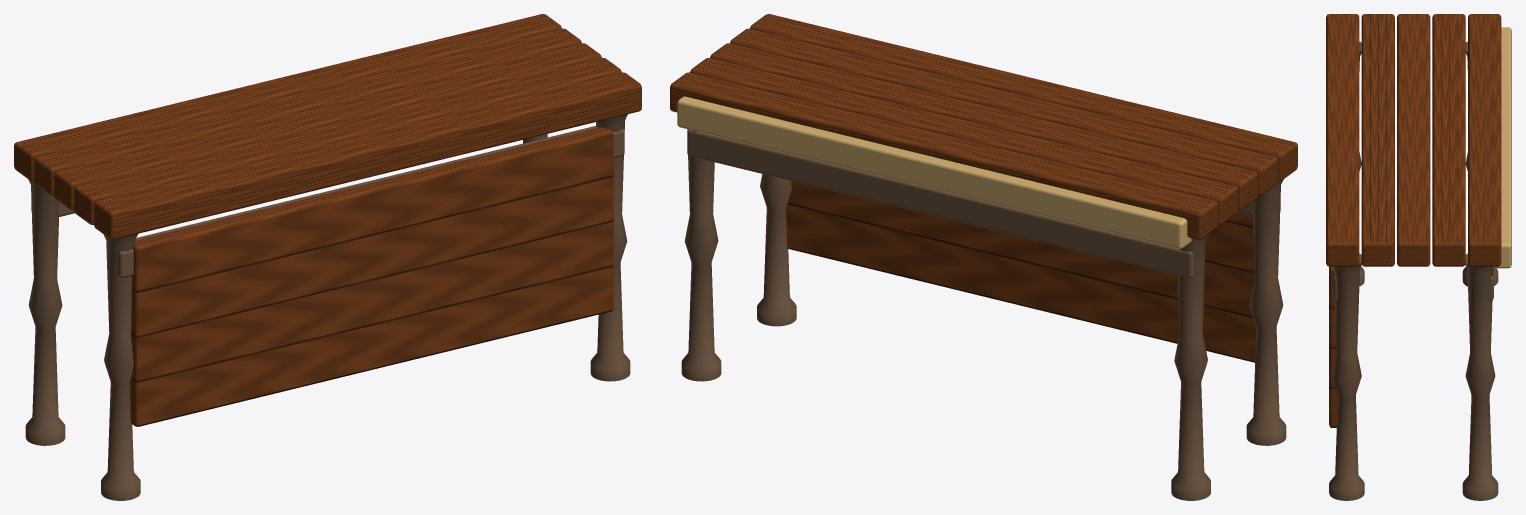
The model's file is adventurers-tavern-and-guild-hall-guild-counter-9cf4fe04__24738.glb.
3 renders of one model, left to right at view 1: azimuth 30°, elevation 25°; view 2: azimuth 150°, elevation 25°; view 3: azimuth 270°, elevation 25°, orthographic. The views are drawn at different scales.
Visible parts, largest first — view 1: guild-counter; view 2: guild-counter; view 3: guild-counter.
Part boxes in pixels (<box>): guild-counter: <box>14,14,641,500</box>; guild-counter: <box>670,14,1297,500</box>; guild-counter: <box>1326,14,1511,500</box>.
Bounding box in the file's own units: 2 × 1.05 × 0.6809.
Materials: 3 (1 with a texture image).
